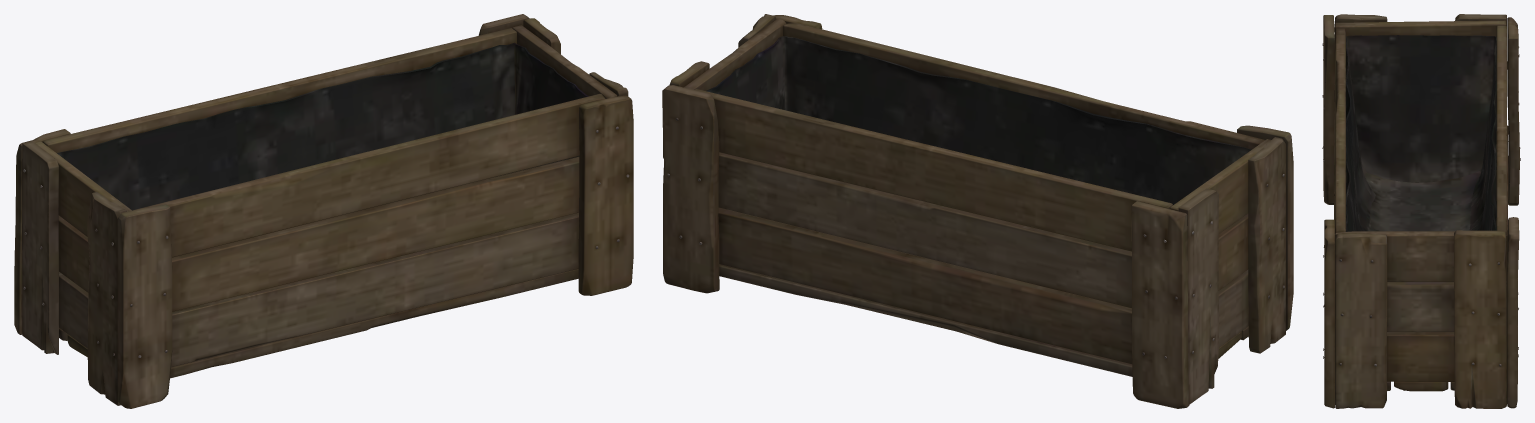
File: planter_box_02.glb
3 renders of one model, left to right at view 1: azimuth 30°, elevation 25°; view 2: azimuth 150°, elevation 25°; view 3: azimuth 270°, elevation 25°, orthographic. The views are drawn at different scales.
Parts seen in each view (by area): view 1: planter_box_02; view 2: planter_box_02; view 3: planter_box_02.
Boxes of the visible parts, bbox=[...] form: planter_box_02: bbox=[14, 14, 633, 408]; planter_box_02: bbox=[662, 14, 1293, 408]; planter_box_02: bbox=[1322, 14, 1520, 408].
Bounding box in the file's own units: 1.25 × 0.4534 × 0.4673.
Materials: 1 (1 with a texture image).
